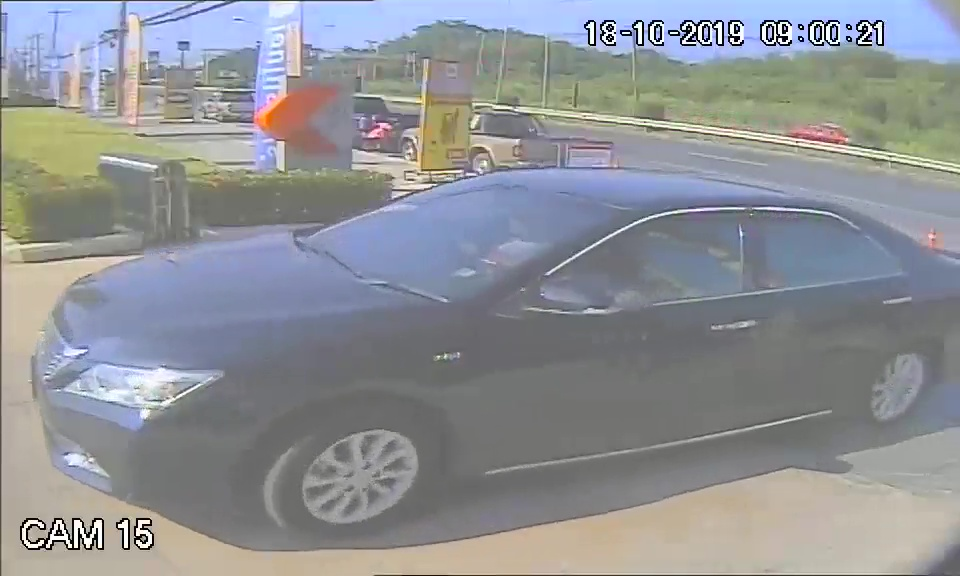sedan: (28, 162, 953, 532)
